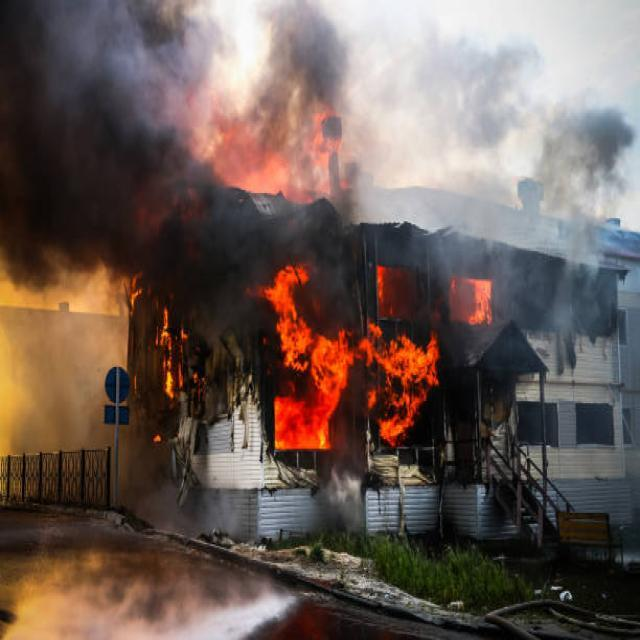Fire: (280, 255, 452, 460), (190, 61, 334, 214)
Smoke: (0, 0, 347, 298), (400, 31, 633, 287)
